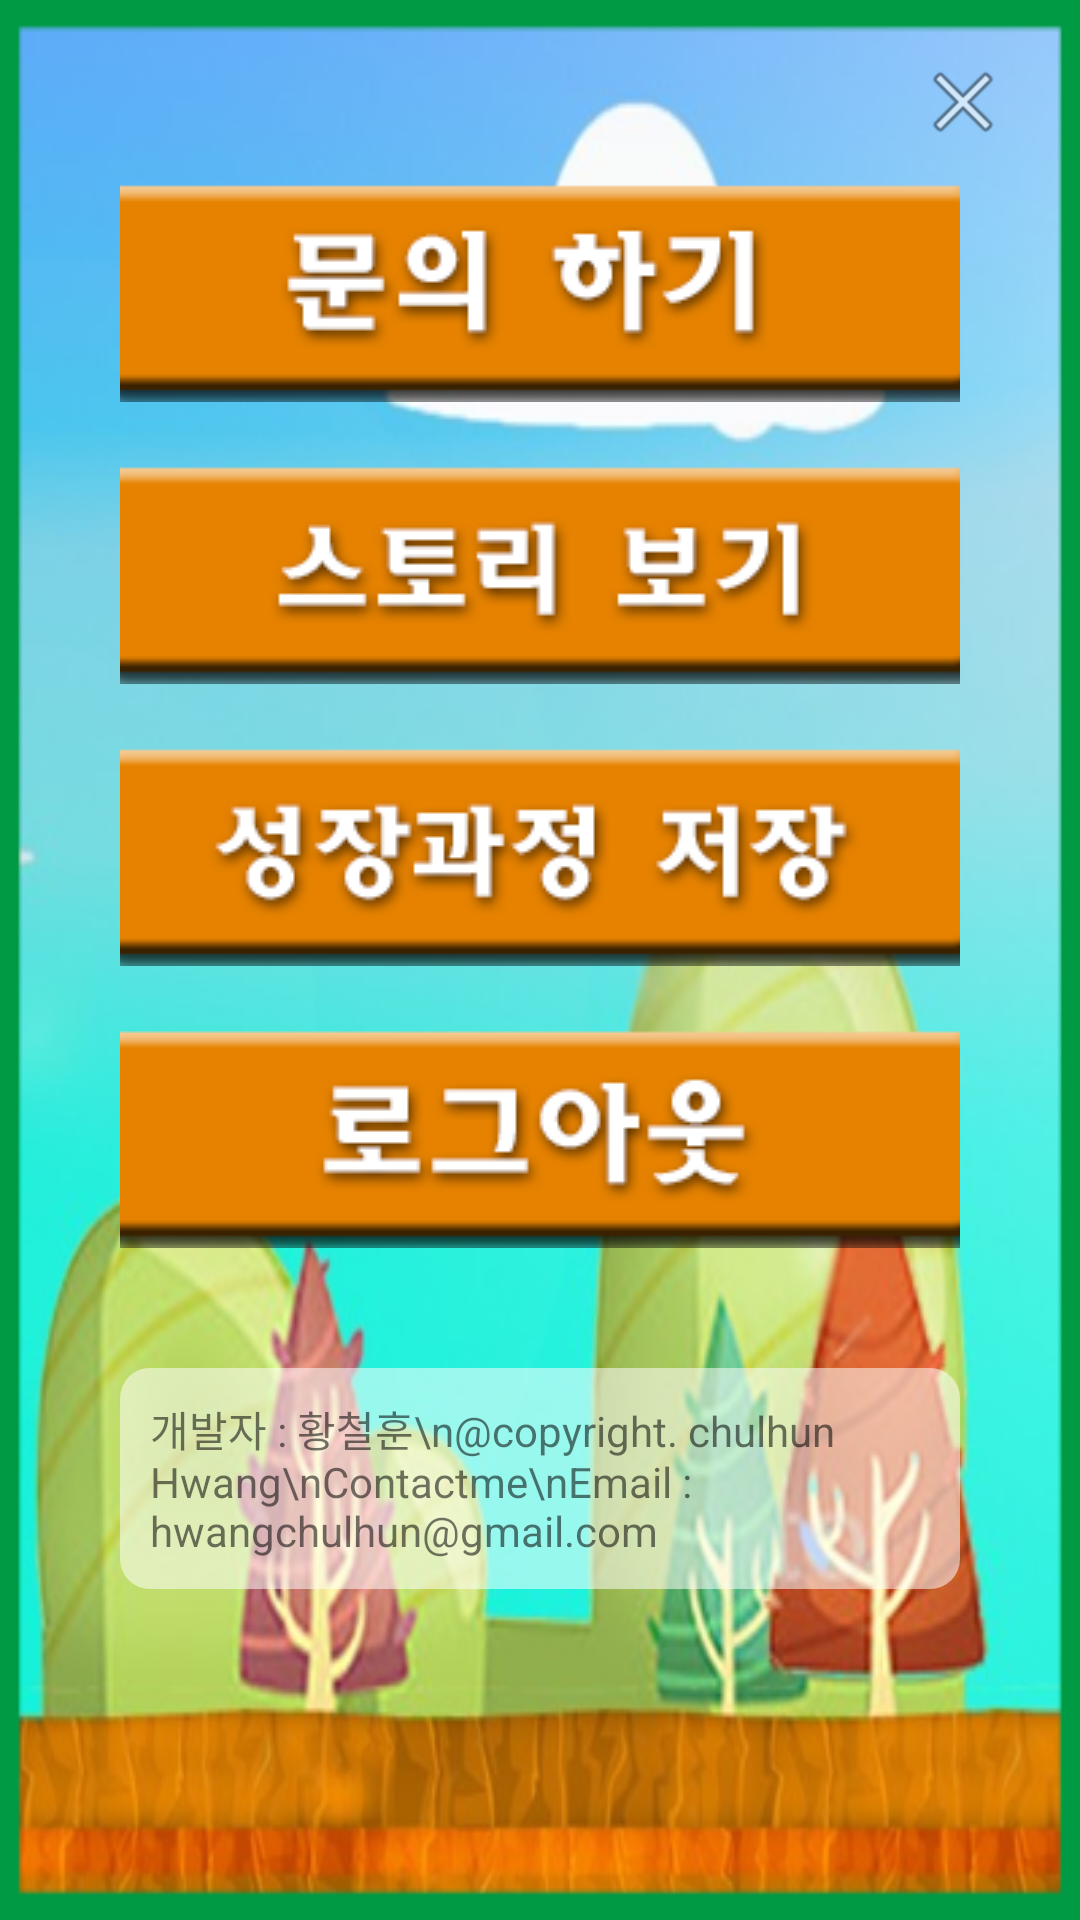

Icon click points for this 1080x1920 phone screenshot, format (x,y):
close clear cancel: (963,102)
